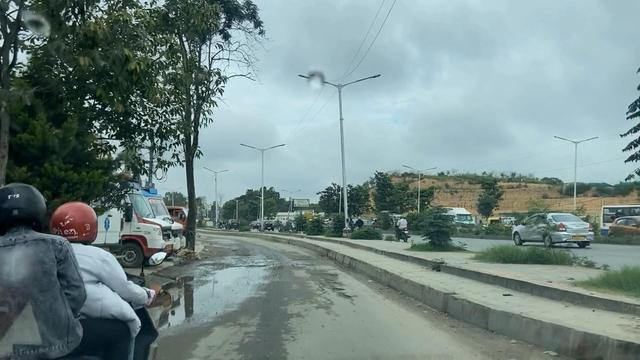RoadDamages: (199, 242, 278, 275), (311, 266, 362, 316)
